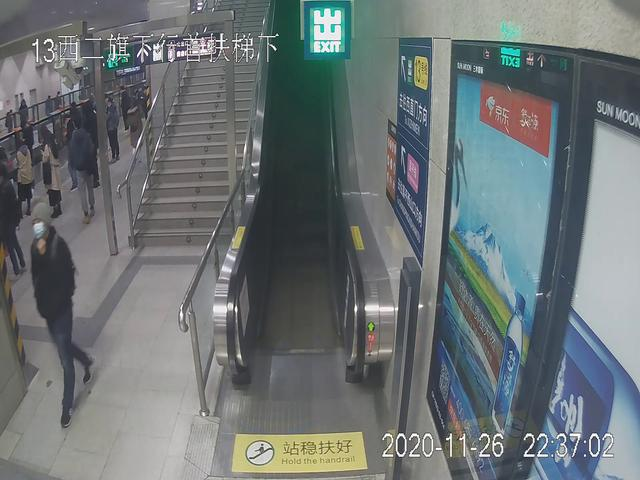person: (30, 203, 94, 428), (69, 111, 97, 223), (38, 125, 67, 219), (11, 135, 37, 216), (100, 95, 122, 165), (125, 98, 146, 165)
